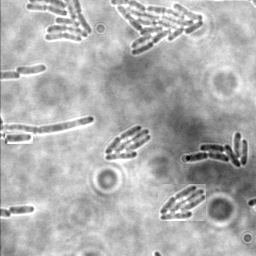Dividing: (1, 114, 95, 133), (105, 109, 142, 131), (8, 204, 35, 215)
Microcolony: (109, 1, 205, 56), (25, 1, 94, 44), (184, 130, 248, 167), (103, 124, 150, 160), (145, 167, 164, 204), (16, 63, 48, 74)
